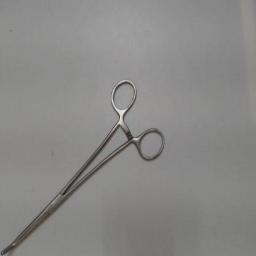Lahey Forceps: (1, 73, 169, 255)
